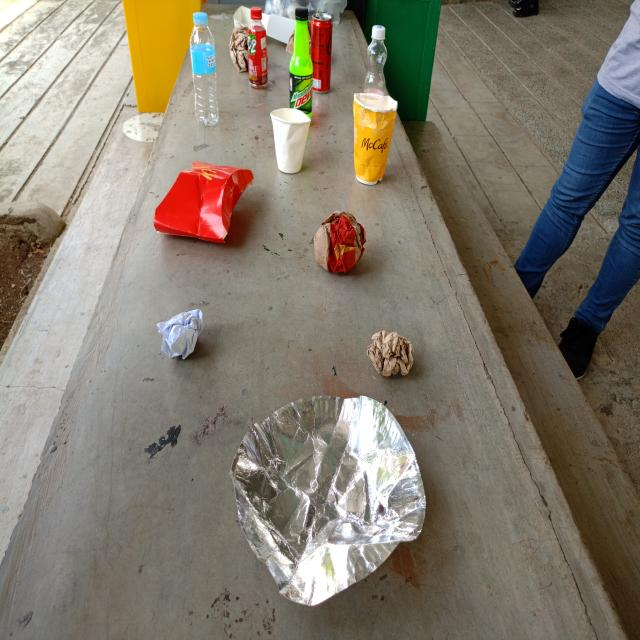Anorganik: (188, 9, 220, 128), (291, 7, 312, 116), (312, 11, 334, 96), (247, 5, 269, 89), (366, 25, 388, 98)
Organik: (227, 392, 429, 610), (152, 159, 254, 246), (350, 89, 399, 185), (311, 205, 367, 278), (268, 106, 312, 173), (157, 308, 206, 364), (366, 328, 416, 380), (231, 24, 248, 73)
